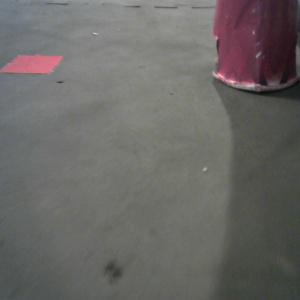Right: (212, 1, 300, 92)
